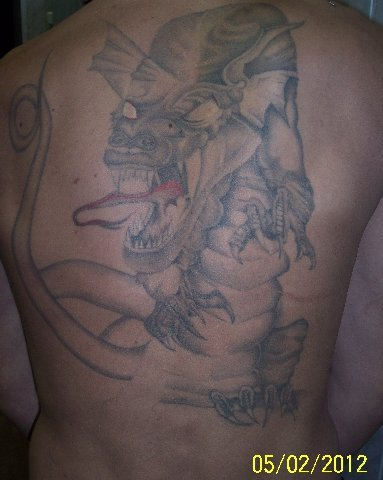tatu3_bukva: (7, 3, 378, 446)
